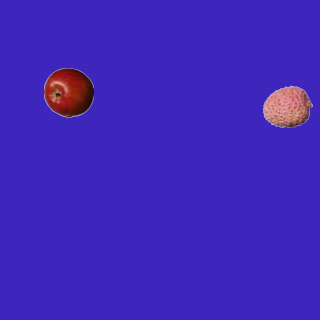Apple Braeburn: (43, 67, 93, 117)
Lychee: (262, 81, 312, 131)
